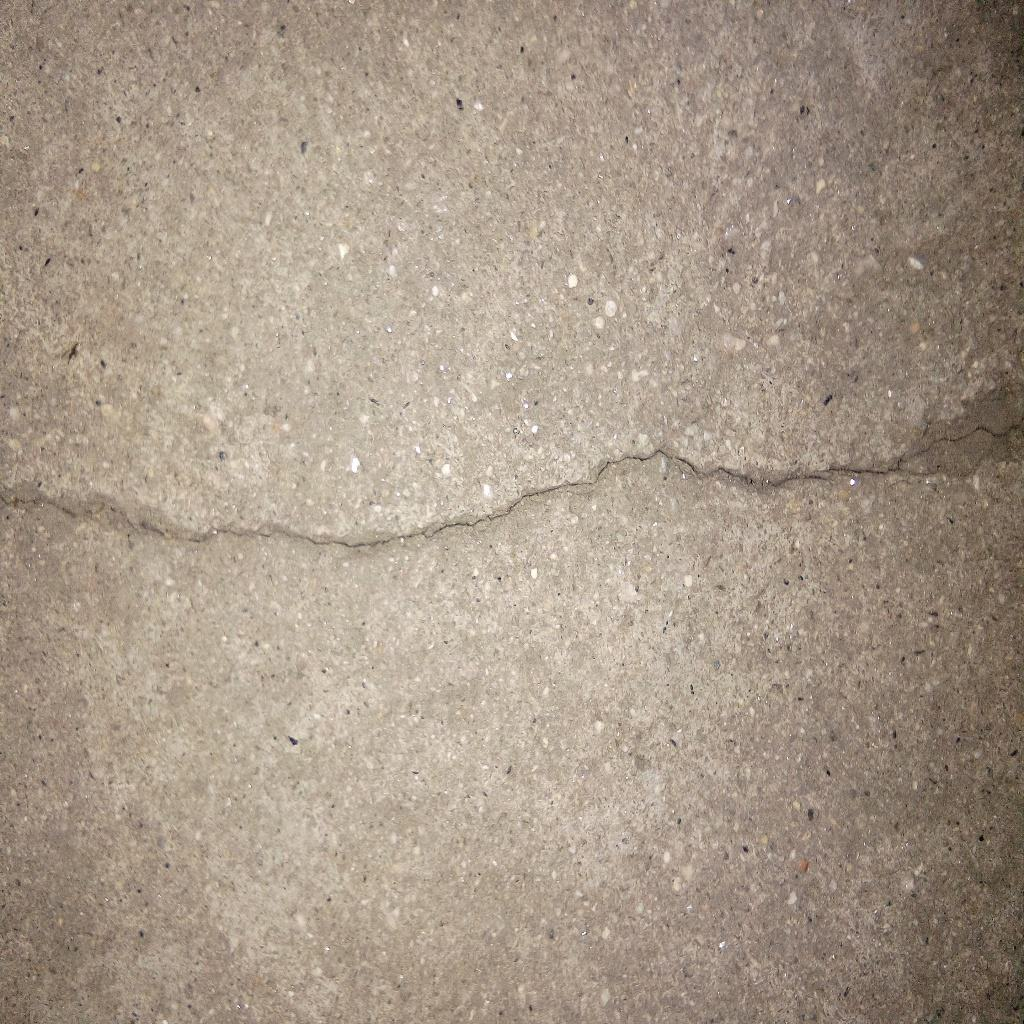Crack: (1, 381, 1024, 552)
